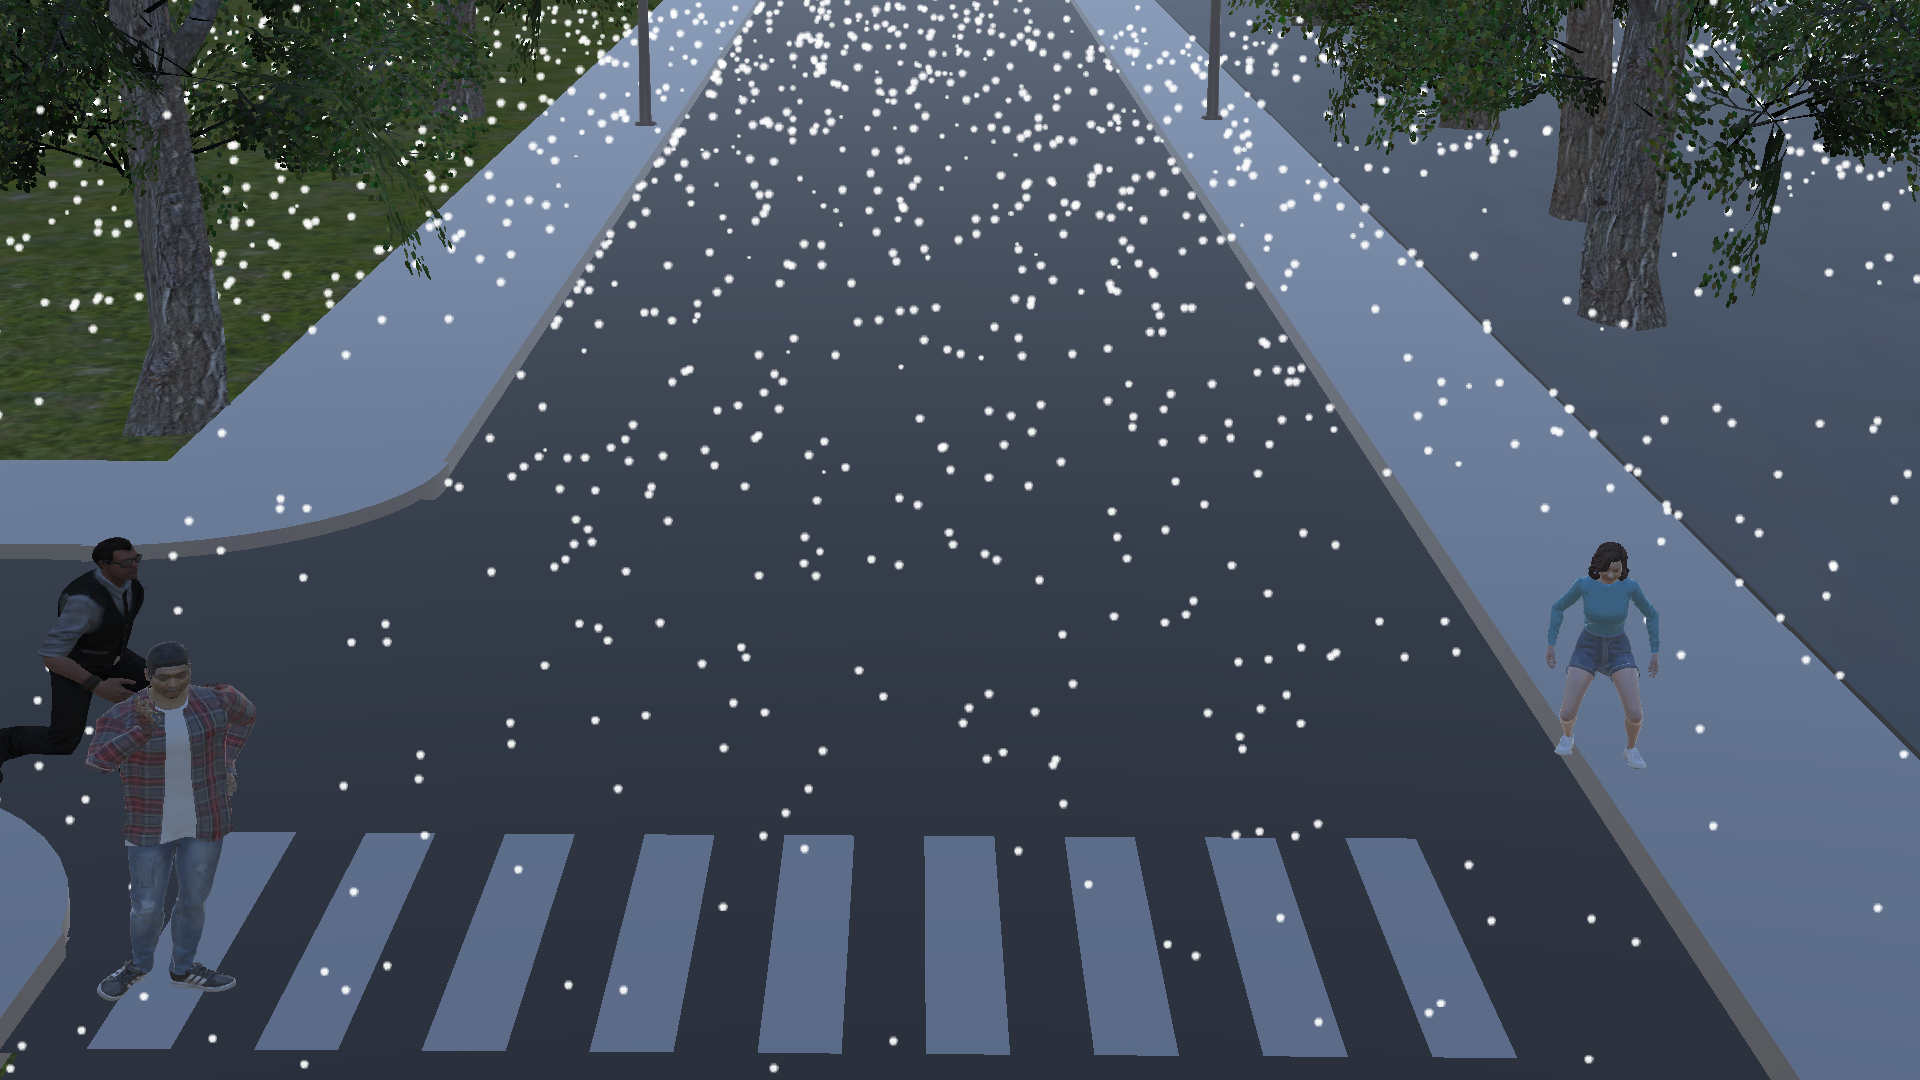pedestrian: (93, 630, 249, 1003), (1, 520, 143, 813), (1540, 532, 1663, 773)
